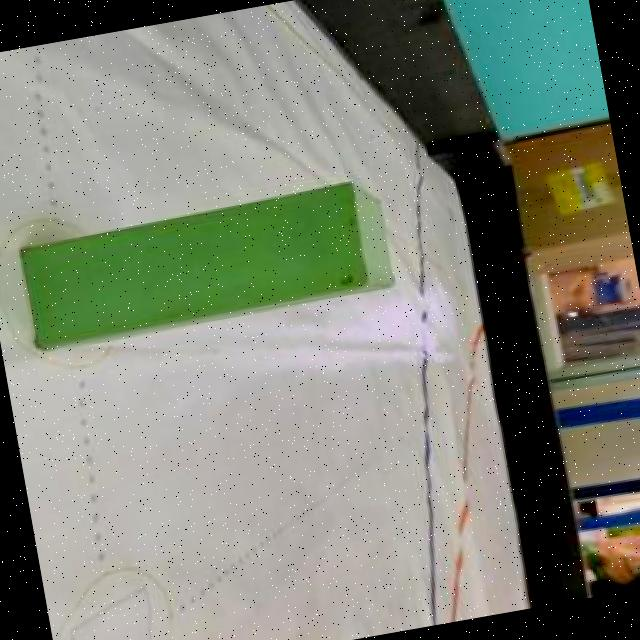greenbox: (16, 175, 400, 348)
